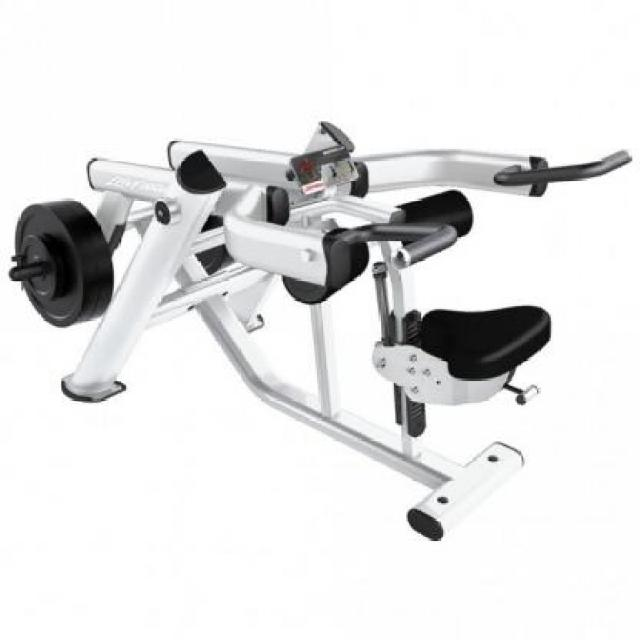seated dip machine: (11, 121, 635, 544)
